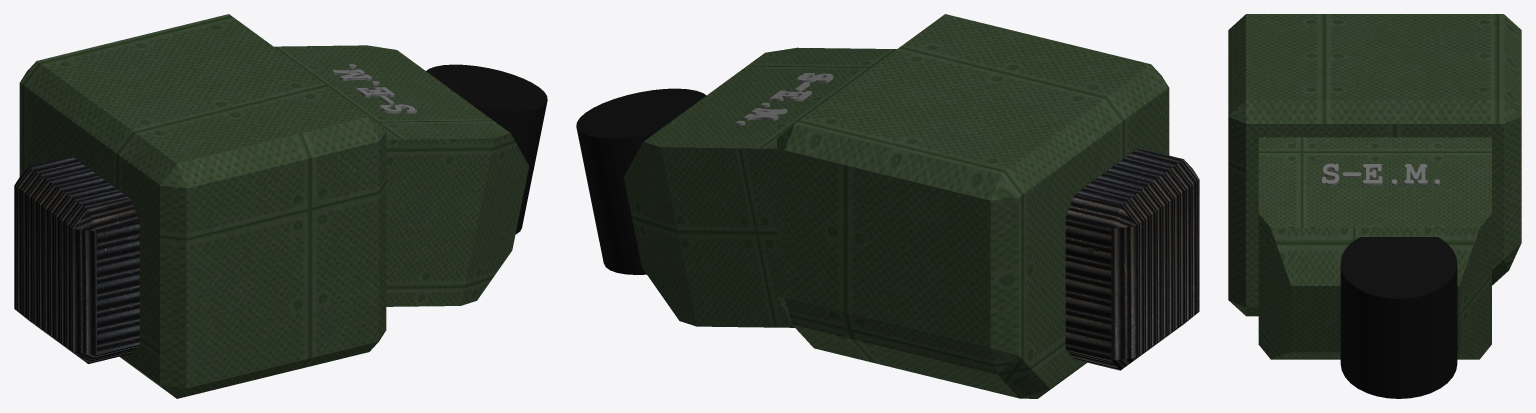
File: brazo_sup_izq.obj
The picture shows the model from 3 angles, left to right: view 1: azimuth 30°, elevation 25°; view 2: azimuth 150°, elevation 25°; view 3: azimuth 270°, elevation 25°; orthographic projection. The views are drawn at different scales.
Visible parts, largest first — view 1: brazo_sup_izq; view 2: brazo_sup_izq; view 3: brazo_sup_izq.
Part boxes in pixels (box(x1,y1,x2,y2)): brazo_sup_izq: box(14, 14, 547, 398); brazo_sup_izq: box(576, 14, 1199, 398); brazo_sup_izq: box(1228, 14, 1521, 398).
Bounding box in the file's own units: 3.75 × 1.62 × 2.
4 materials, 2 textured.
